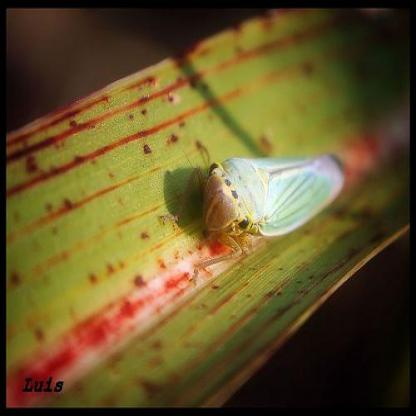Green-Leafhopper: (171, 152, 347, 271)
